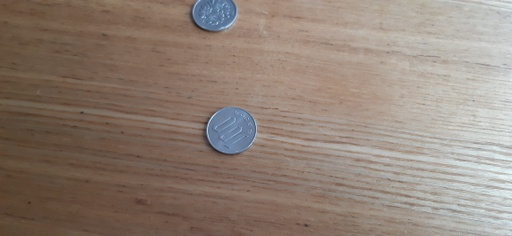100yen: (207, 107, 256, 154), (192, 2, 237, 32)
